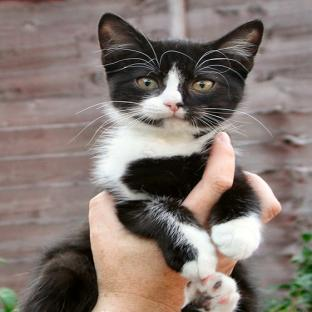Animal: (93, 13, 262, 311), (21, 223, 97, 311)
